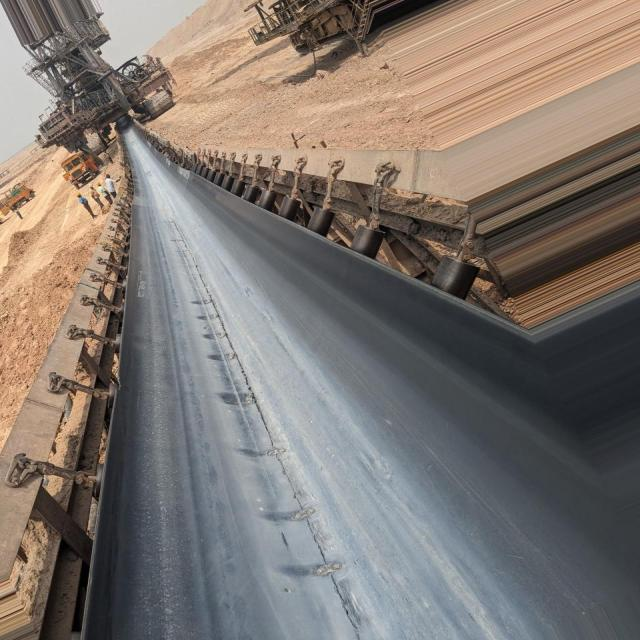Human: (97, 174, 122, 204), (76, 193, 98, 219), (90, 184, 108, 210)
Roller: (224, 178, 482, 293)
patch work: (169, 255, 364, 598)
